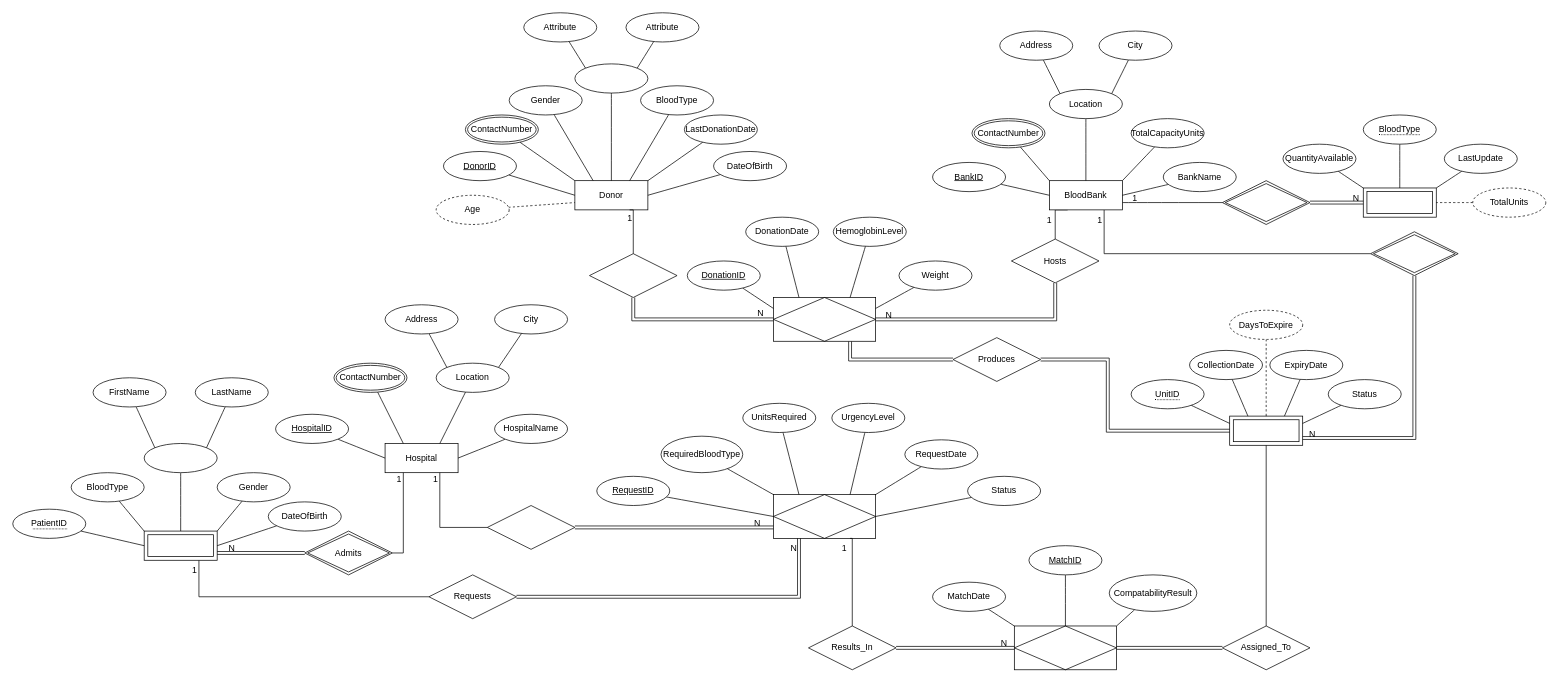
The diagram is 1559 pixels wide and 683 high, and some of its shapes have lost their labels. The centre of each missing label's shape, as x and y in pixels:
"BloodInventory" belongs at pixel 1399 202.
"BloodUnit" belongs at pixel 1266 430.
"Donates" belongs at pixel 633 275.
"DonationEvent" belongs at pixel 824 319.
"Issues" belongs at pixel 531 527.
"Manages" belongs at pixel 1414 253.
"Name" belongs at pixel 611 78.
"Patient" belongs at pixel 180 545.
"PatientName" belongs at pixel 180 458.
"Tracks" belongs at pixel 1266 202.
"TransfusionMatch" belongs at pixel 1065 647.
"TransfusionRequest" belongs at pixel 824 516.
